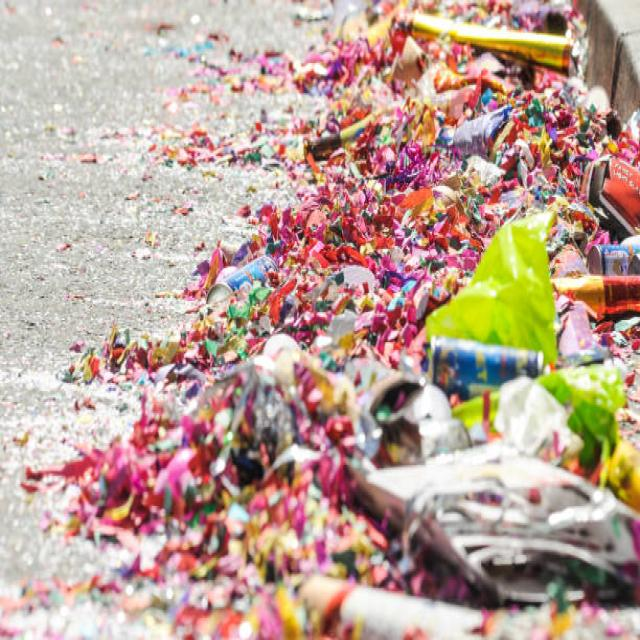trash: (159, 28, 596, 569)
